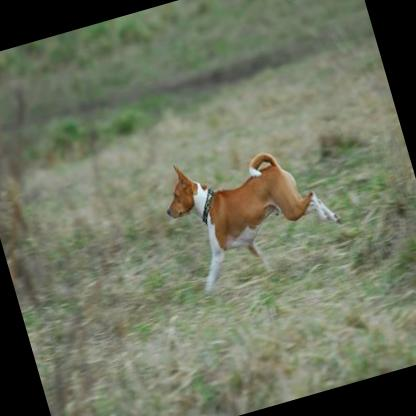basenji: (150, 121, 354, 302)
